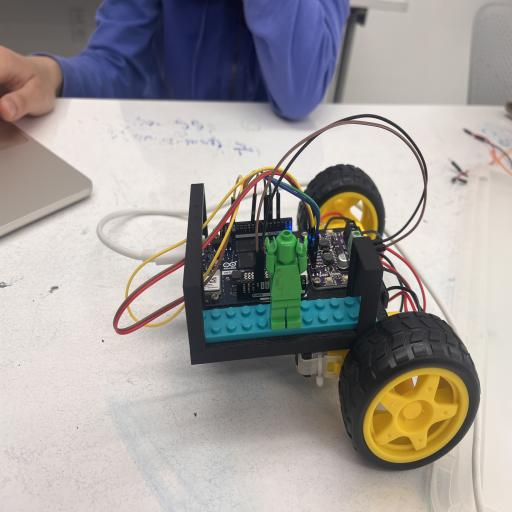Lego-Minifig: (265, 230, 307, 330)
